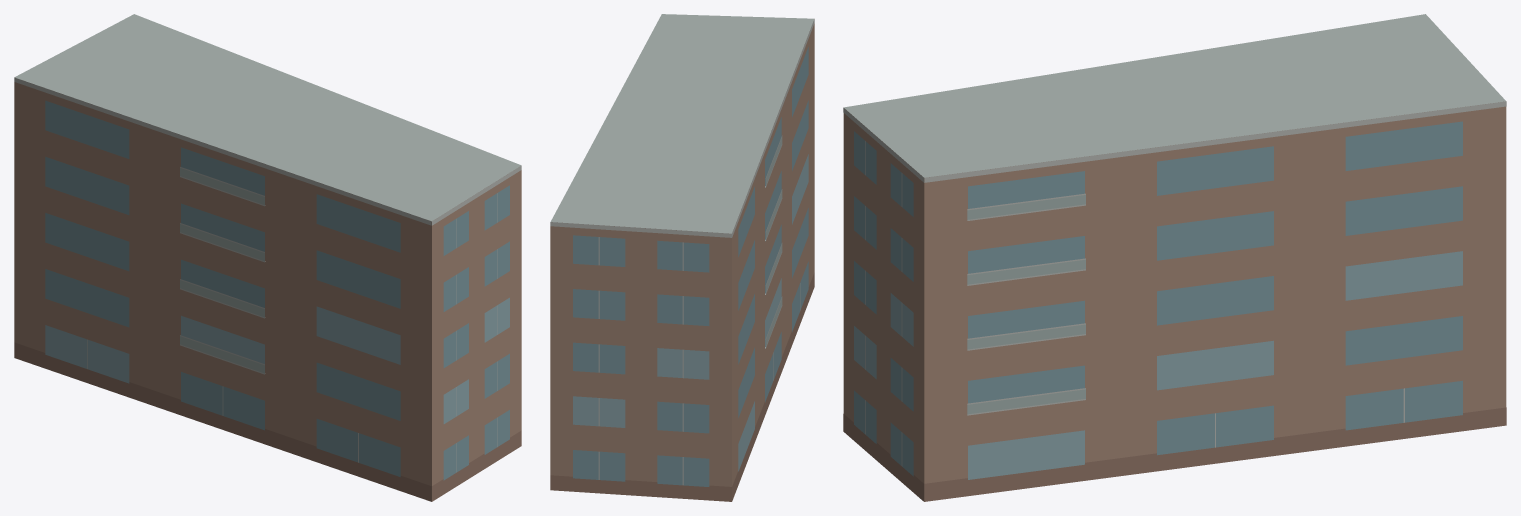
Rendered from survey-upis-32942772.glb.
3 views of the same model, side by side, from view 1: azimuth 30°, elevation 25°; view 2: azimuth 150°, elevation 25°; view 3: azimuth 270°, elevation 25° (orthographic). The views are drawn at different scales.
Visible parts, largest first — view 1: survey-upis-32942772.tmp; view 2: survey-upis-32942772.tmp; view 3: survey-upis-32942772.tmp.
Boxes of the visible parts, <box> form: survey-upis-32942772.tmp: <box>14,14,521,501</box>; survey-upis-32942772.tmp: <box>550,14,814,501</box>; survey-upis-32942772.tmp: <box>843,14,1506,501</box>.
Bounding box in the file's own units: 16.7 × 15.4 × 28.56.
